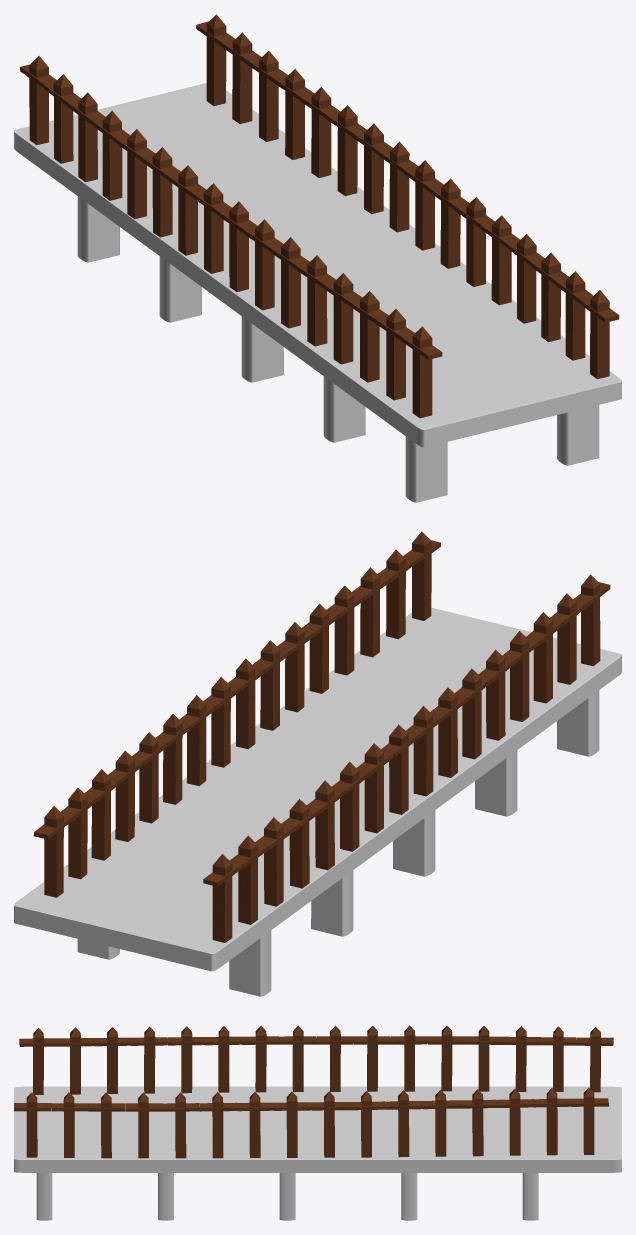
File: beam_bridge.fbx
The picture shows the model from 3 angles, top to bottom: view 1: azimuth 30°, elevation 25°; view 2: azimuth 150°, elevation 25°; view 3: azimuth 270°, elevation 25°; orthographic projection. The views are drawn at different scales.
Visible parts, largest first — view 1: Cube, Cube.001, Cube.002; view 2: Cube, Cube.002, Cube.001; view 3: Cube, Cube.001, Cube.002.
Part boxes in pixels (x1=…): Cube: x1=14, y1=83, x2=621, y2=502; Cube.001: x1=196, y1=14, x2=619, y2=379; Cube.002: x1=20, y1=56, x2=442, y2=418; Cube: x1=14, y1=607, x2=621, y2=996; Cube.002: x1=203, y1=574, x2=610, y2=942; Cube.001: x1=33, y1=531, x2=440, y2=897; Cube: x1=14, y1=1086, x2=621, y2=1220; Cube.001: x1=14, y1=1087, x2=608, y2=1158; Cube.002: x1=19, y1=1025, x2=613, y2=1094.
Bounding box in the file's own units: 332 × 272 × 1164.
